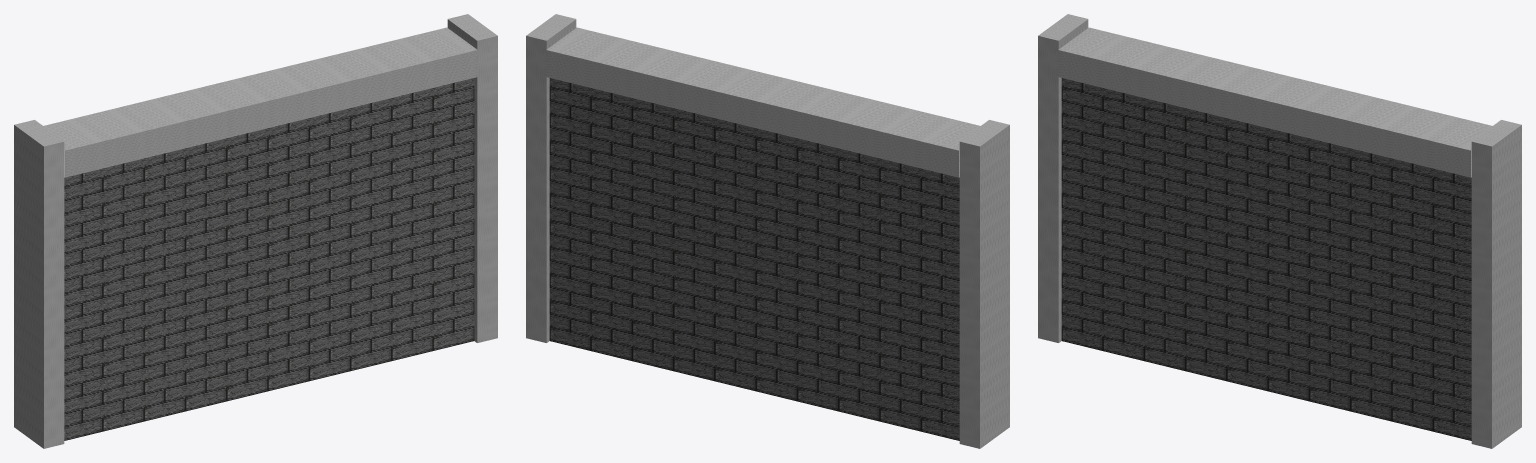
Rendered from wall.obj.
The picture shows the model from 3 angles, left to right: view 1: azimuth 30°, elevation 25°; view 2: azimuth 150°, elevation 25°; view 3: azimuth 330°, elevation 25°; orthographic projection.
Parts seen in each view (by area): view 1: Box001, Box002, Box004, Box003; view 2: Box001, Box002, Box004, Box003; view 3: Box001, Box002, Box003, Box004.
Part boxes in pixels (box(x1,y1,x2,y2)): Box001: box(64, 78, 474, 440); Box002: box(43, 27, 477, 177); Box004: box(14, 120, 64, 448); Box003: box(447, 14, 497, 342); Box001: box(549, 78, 959, 440); Box002: box(546, 27, 980, 177); Box004: box(959, 120, 1009, 448); Box003: box(526, 14, 576, 342); Box001: box(1061, 78, 1471, 440); Box002: box(1058, 27, 1492, 177); Box003: box(1471, 120, 1521, 448); Box004: box(1038, 14, 1088, 342).
Size of the model in its own units: 86.61 by 55.12 by 10.16.
2 materials, 2 textured.
